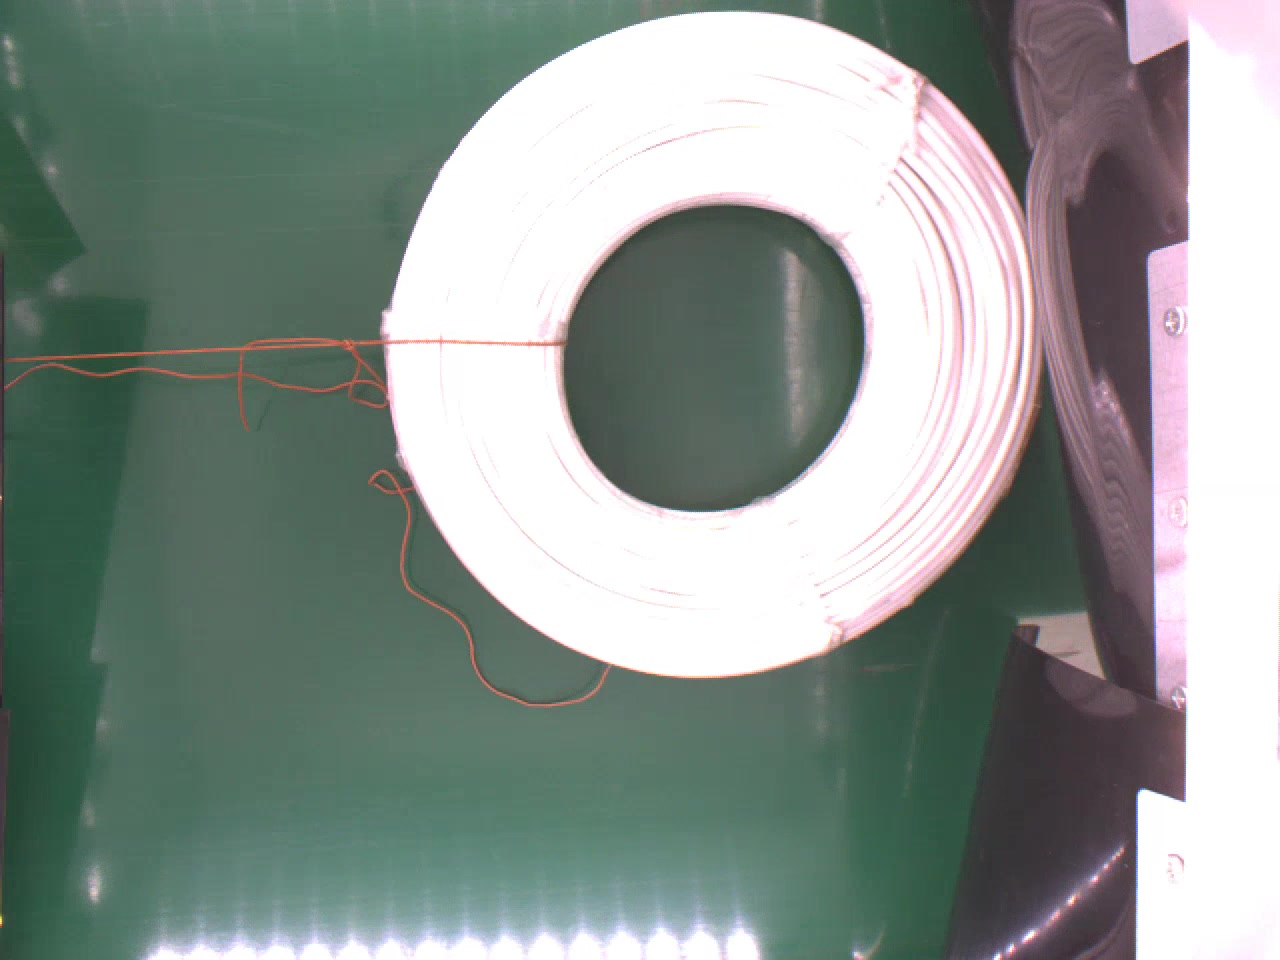white: (378, 12, 1048, 683)
